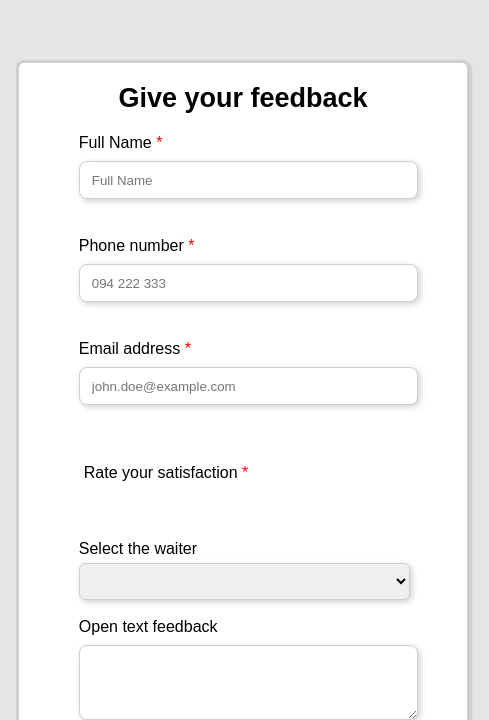
SurveyForm › SurveyForm Controls › Reset button › Becomes disabled when the form is reset
Step 1. Type "Test" into the field with test id "fullName" → x=248, y=180, box [79,161,418,199]
(page scrolled)
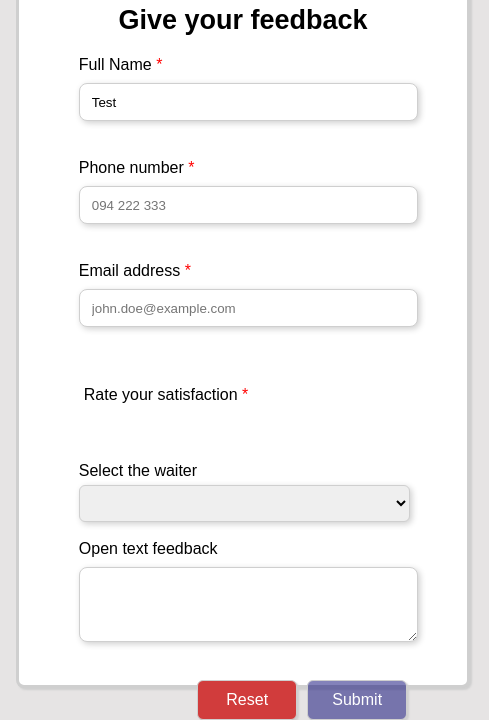
Step 2. Click the button with test id "resetButton" → x=247, y=700, box [197,680,297,719]
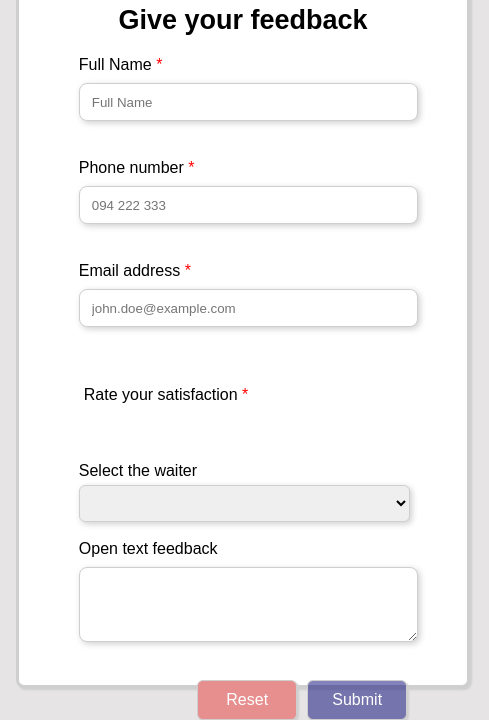
Expected: the button with test id "resetButton" is disabled, [197,680,297,719]
